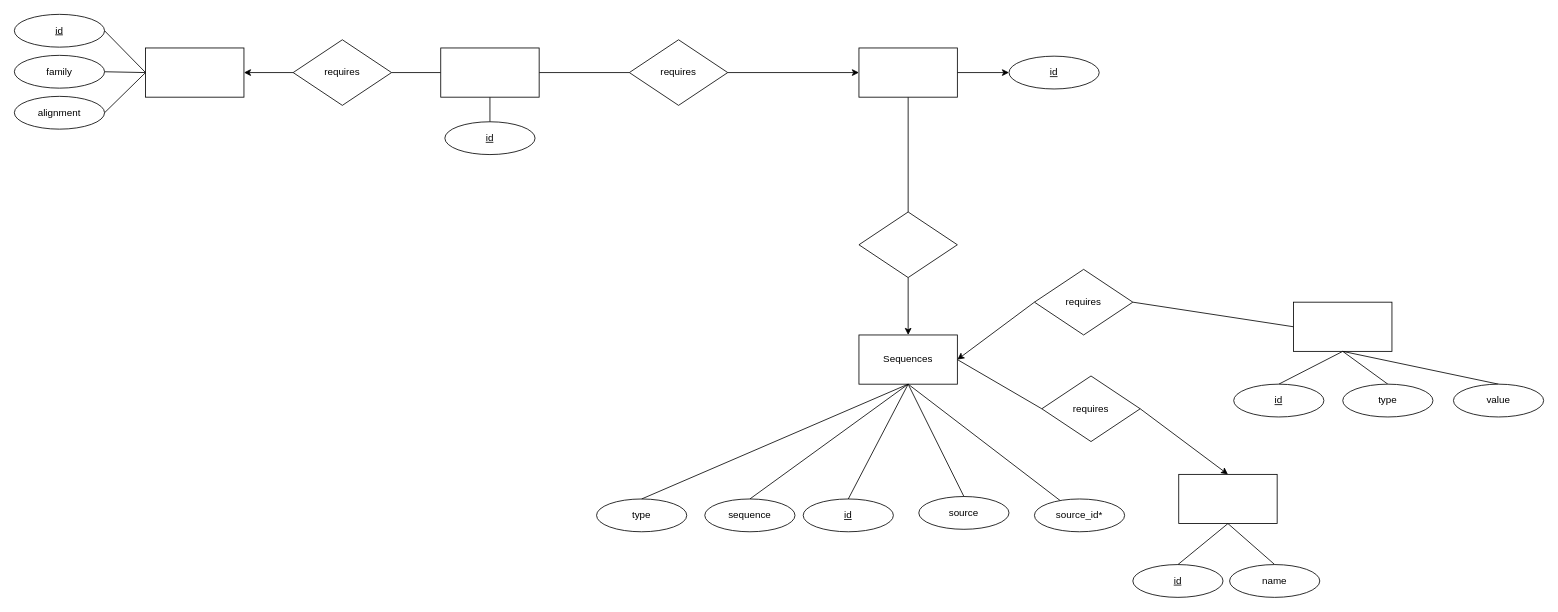
Image size: 1558x612. Some labels were removed from this diagram. Here are the shapes that lost their labels. From the top down, the centre of each, then its label:
At pixel 194 72: "Homestrad".
At pixel 489 72: "Alignments".
At pixel 907 72: "Protein".
At pixel 907 244: "belongs to*".
At pixel 1342 326: "Keywords".
At pixel 1227 499: "Organisms".
